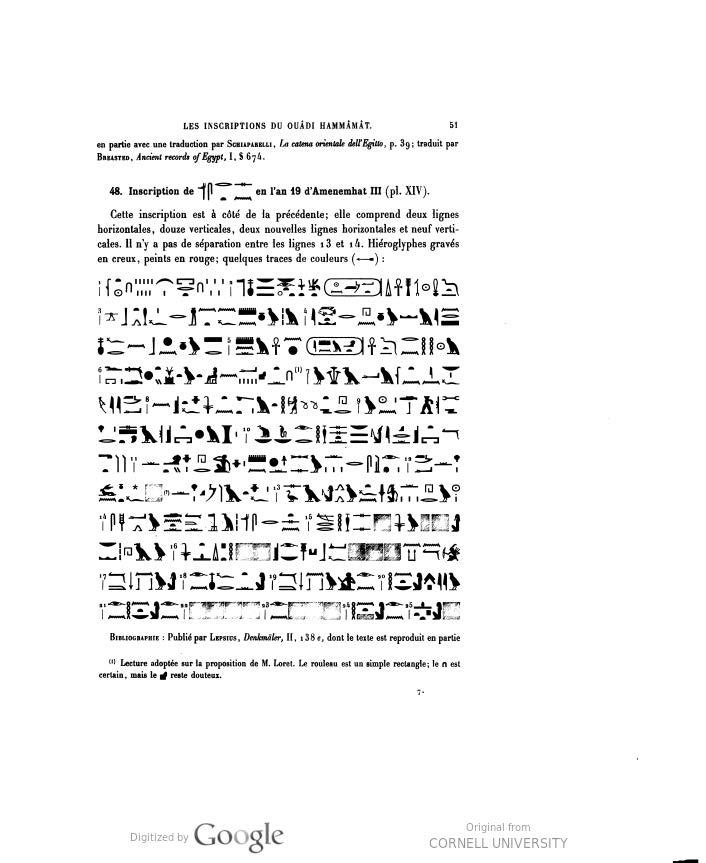circle: (320, 269, 386, 308), (305, 327, 363, 362)
